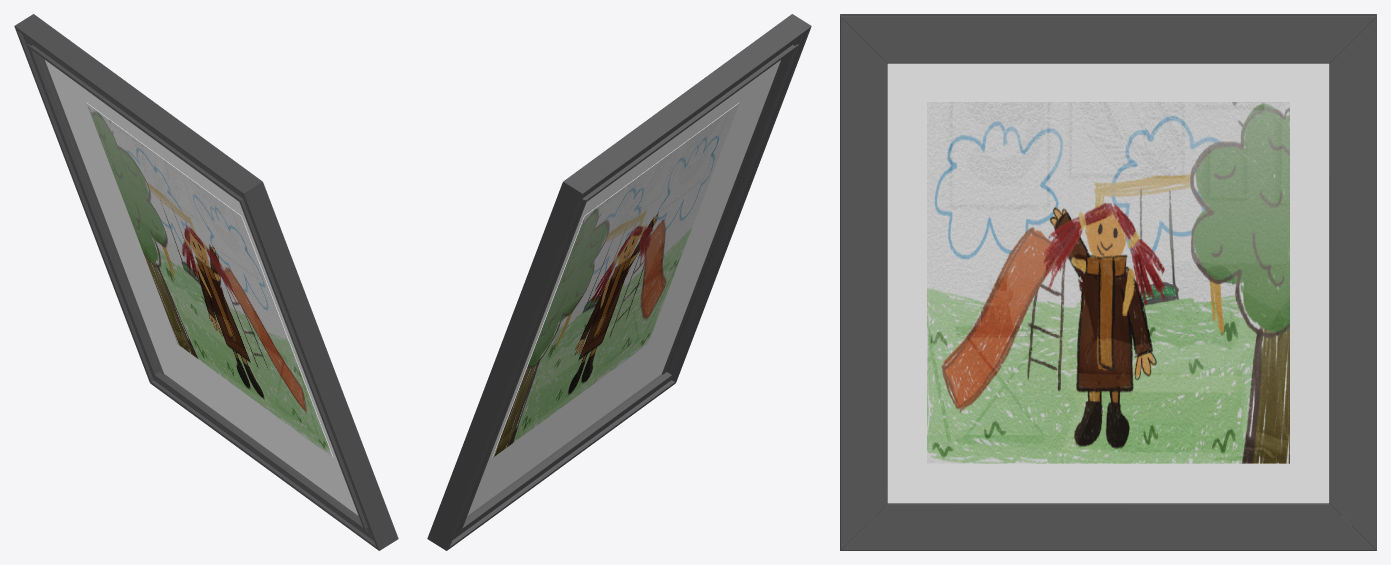
Rendered from Picture Frame 2.fbx.
3 views of the same model, side by side, from view 1: azimuth 30°, elevation 25°; view 2: azimuth 150°, elevation 25°; view 3: azimuth 270°, elevation 25° (orthographic). The views are drawn at different scales.
Parts seen in each view (by area): view 1: Cap_10; view 2: Cap_10; view 3: Cap_10.
Part boxes in pixels (x1,y1,x2,y2): Cap_10: (14, 14, 398, 550); Cap_10: (427, 14, 811, 550); Cap_10: (840, 14, 1376, 550).
Size of the model in its own units: 16.83 by 41.19 by 43.04.
Materials: 3 (1 with a texture image).
